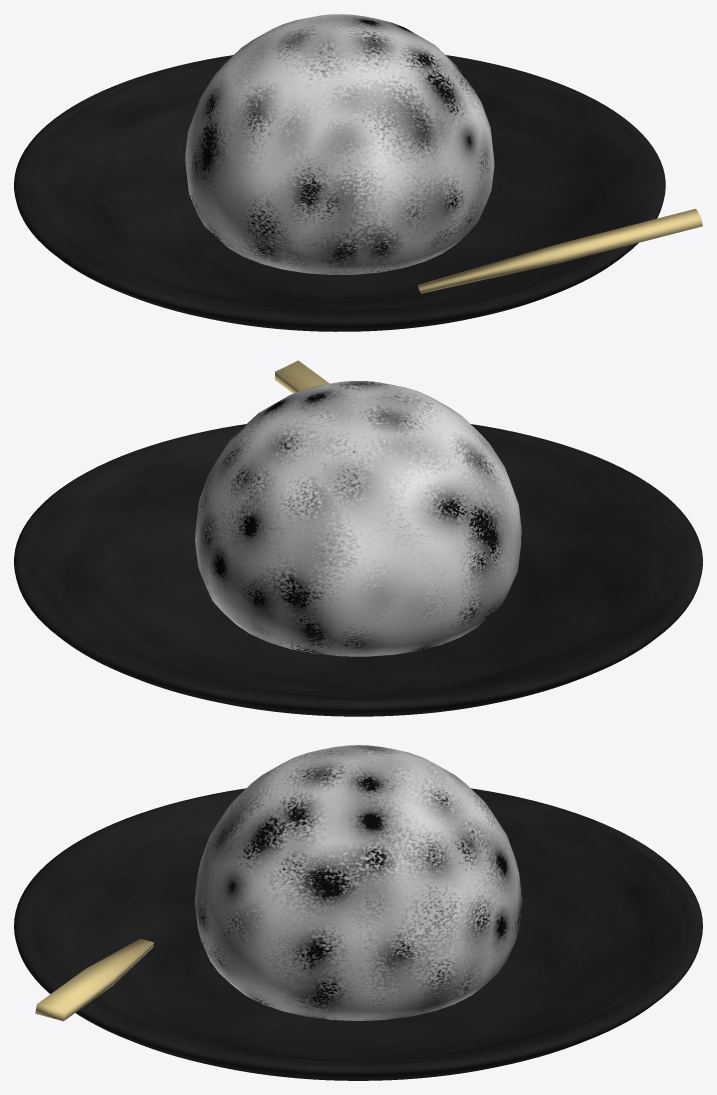
File: daifuku2.glb
3 renders of one model, top to bottom at view 1: azimuth 30°, elevation 25°; view 2: azimuth 150°, elevation 25°; view 3: azimuth 270°, elevation 25°, orthographic. The views are drawn at different scales.
Parts seen in each view (by area): view 1: Sara, MameDaifuku, Youji; view 2: Sara, MameDaifuku, Youji; view 3: Sara, MameDaifuku, Youji.
Boxes of the visible parts, x1,y1,x2,y2 form: Sara: (14, 55, 665, 331); MameDaifuku: (185, 14, 494, 274); Youji: (418, 208, 702, 293); Sara: (14, 424, 702, 716); MameDaifuku: (195, 380, 521, 656); Youji: (274, 360, 329, 393); Sara: (14, 788, 702, 1080); MameDaifuku: (194, 745, 522, 1020); Youji: (35, 938, 154, 1021).
Bounding box in the file's own units: 0.6837 × 0.261 × 0.6837.
3 materials, 2 textured.
